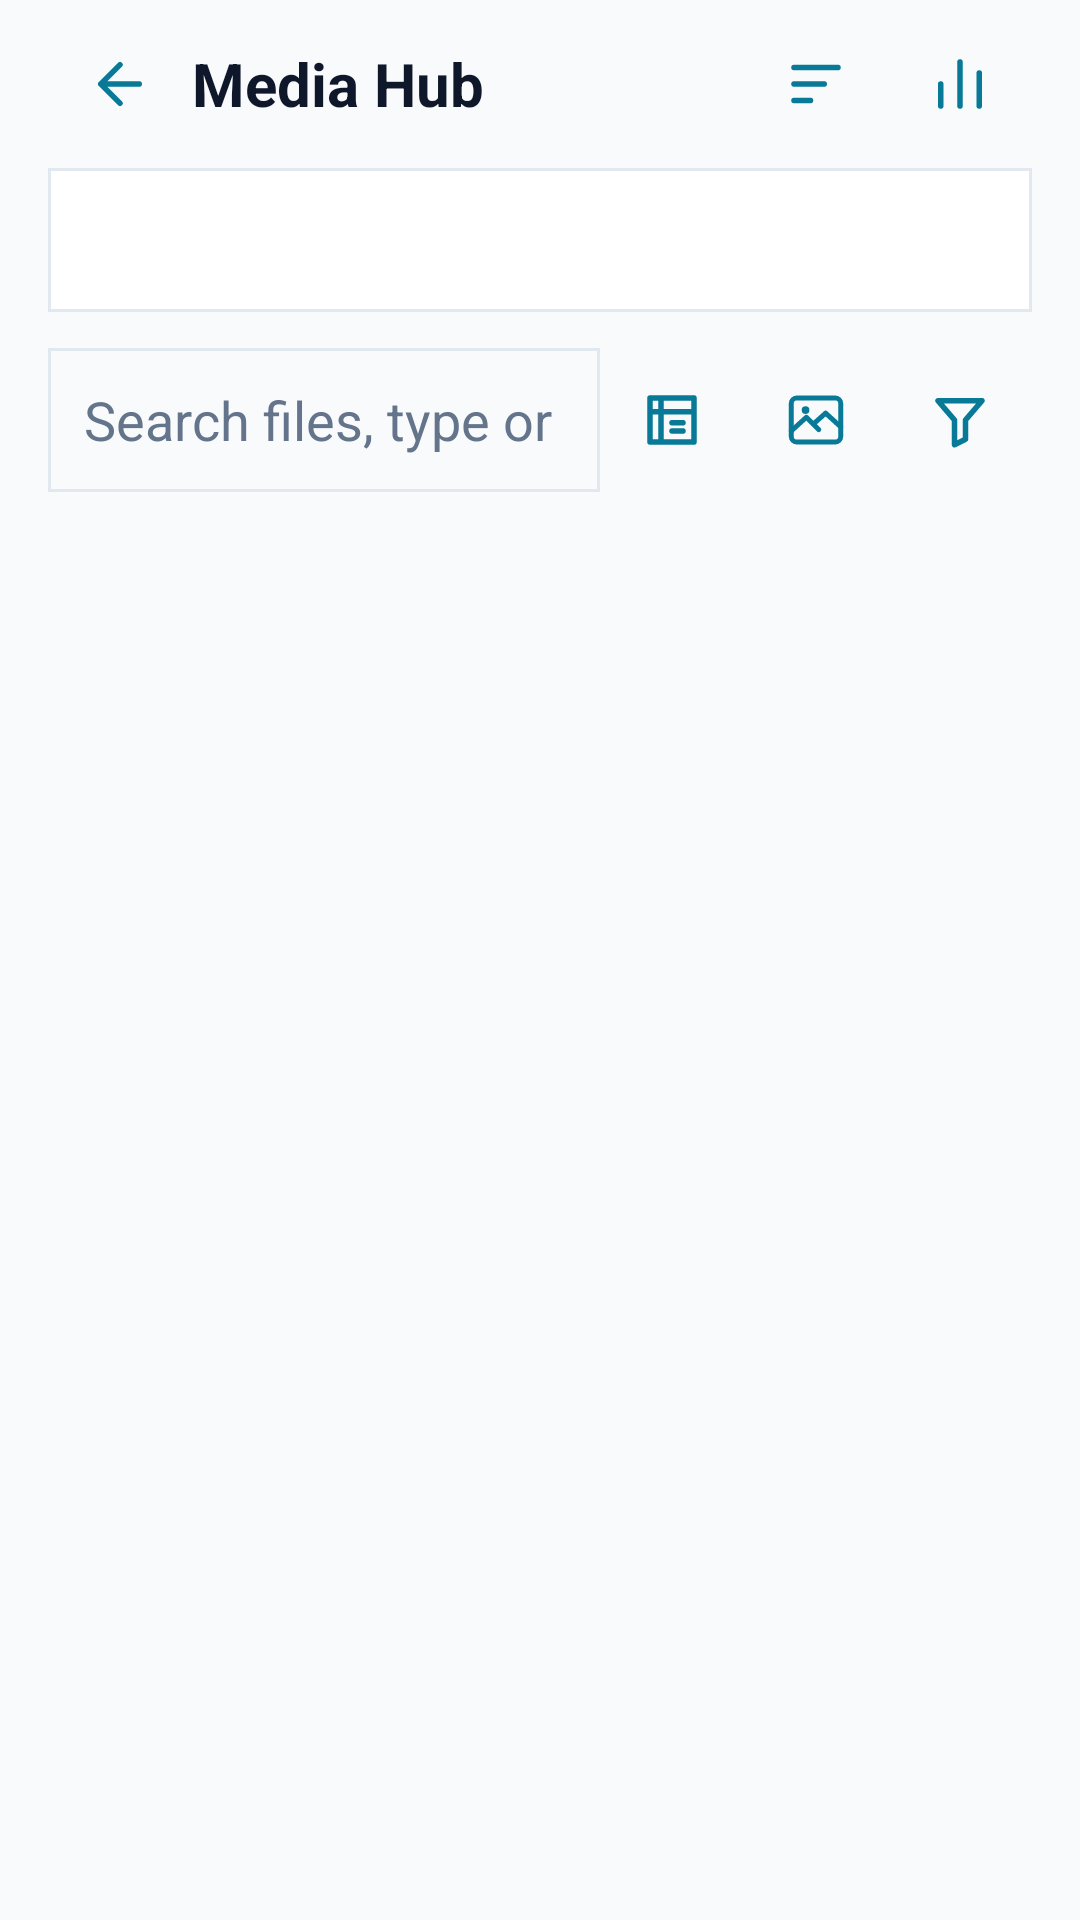

Icons on this 1080*1920 Android screen, each with its box as (x1, y1, x2, y2):
Back: (98, 62, 142, 106)
Filter: (935, 398, 985, 448)
Media type: (788, 395, 844, 445)
Sort: (791, 64, 841, 104)
Storage insights: (938, 59, 982, 109)
